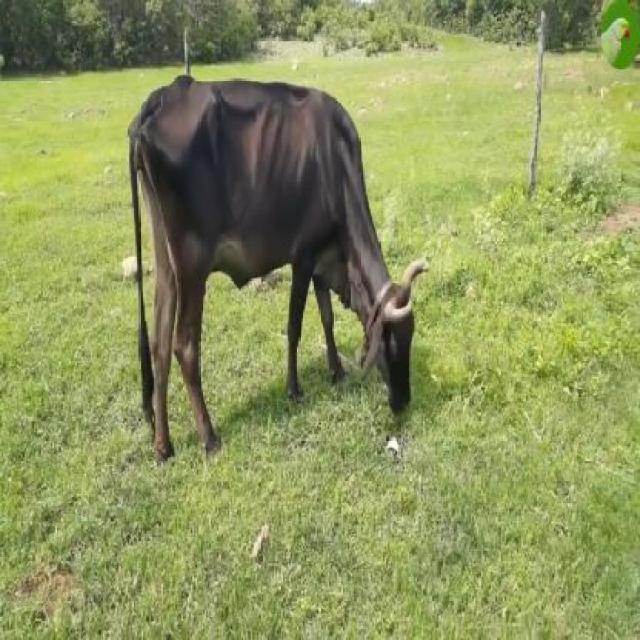Cow: (128, 75, 424, 457)
